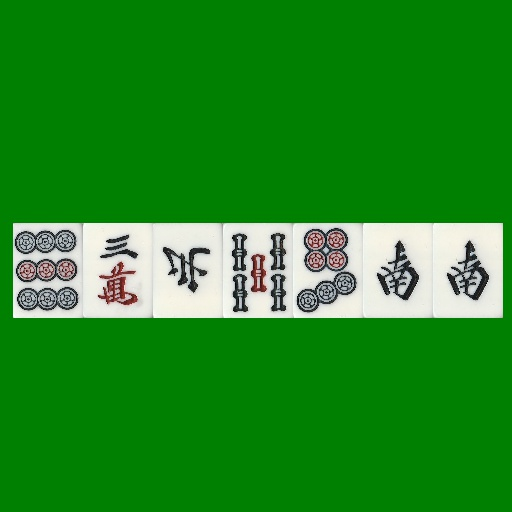3m: (83, 223, 153, 318)
5s: (223, 223, 293, 318)
7p: (293, 223, 363, 318)
9p: (13, 223, 83, 318)
north: (153, 223, 223, 318)
south: (363, 223, 433, 318), (433, 223, 503, 318)
